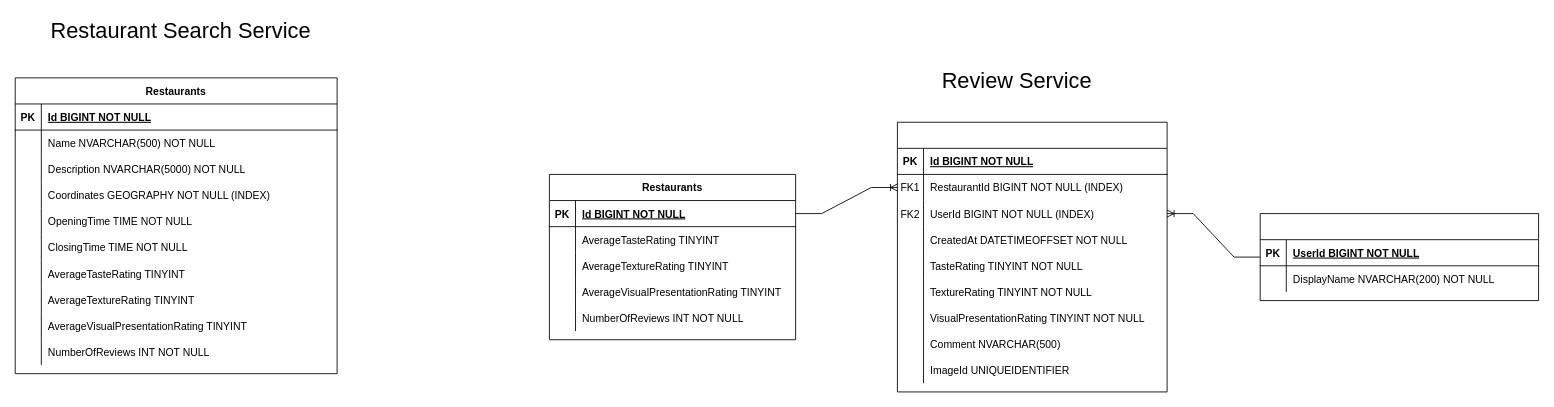
Image size: 1554x407. Some labels were removed from this diagram. Here are the shapes that lost their labels. From the top down, the box of each, then its label:
(897, 121, 1167, 392): Reviews
(1259, 213, 1539, 301): Users
